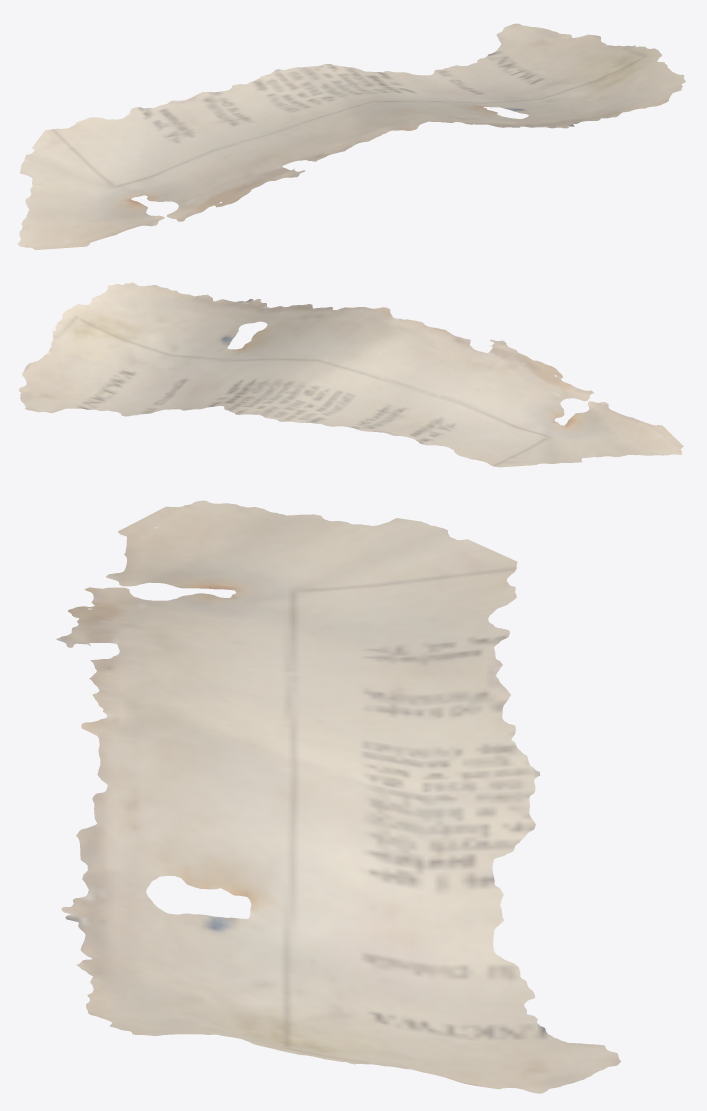
File: SM_Paper_007.fbx
The picture shows the model from 3 angles, top to bottom: view 1: azimuth 30°, elevation 25°; view 2: azimuth 150°, elevation 25°; view 3: azimuth 270°, elevation 25°; orthographic projection. The views are drawn at different scales.
Visible parts, largest first — view 1: SM_Paper_007; view 2: SM_Paper_007; view 3: SM_Paper_007.
Boxes of the visible parts, x1,y1,x2,y2 form: SM_Paper_007: (18, 23, 685, 250); SM_Paper_007: (19, 282, 683, 467); SM_Paper_007: (56, 500, 620, 1093).
Size of the model in its own units: 39.54 by 17.49 by 4.11.
1 material, 1 textured.
